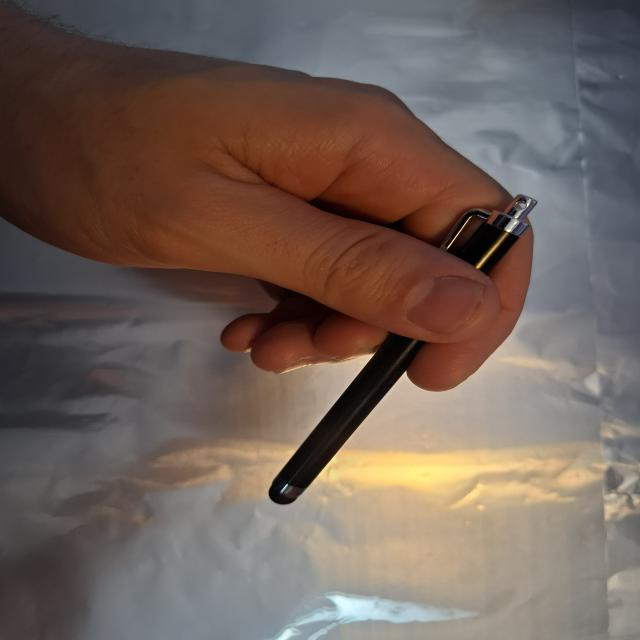glove_off: (5, 16, 537, 393)
